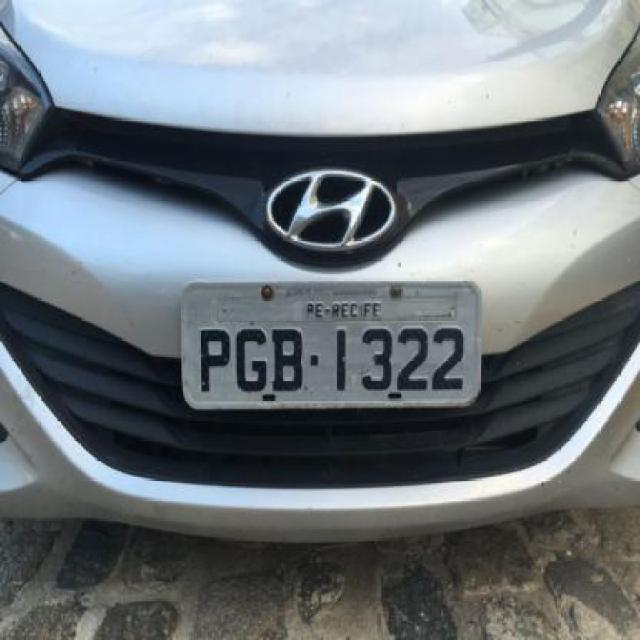old_plate: (170, 274, 487, 413)
